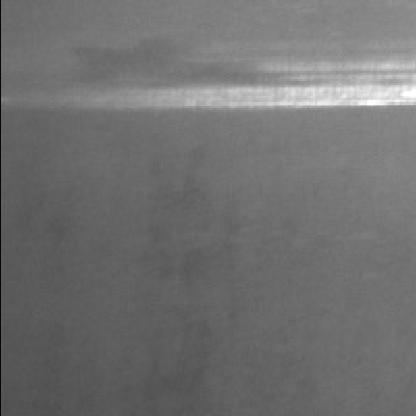scratches: (90, 56, 412, 106)
